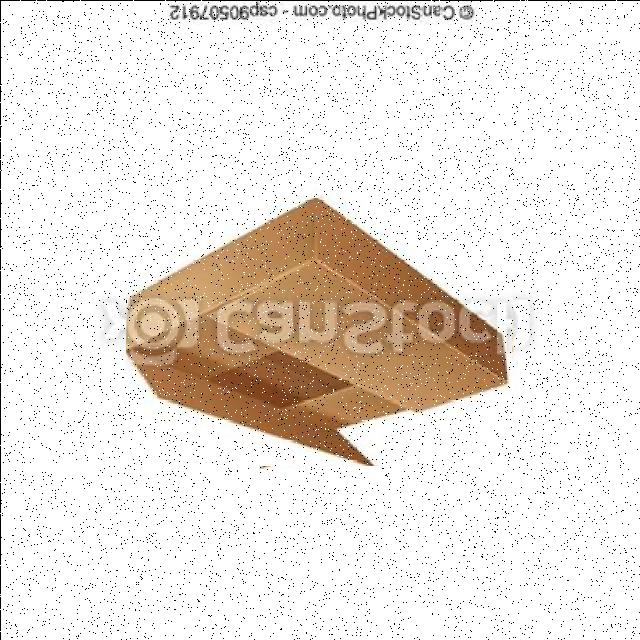defect: (124, 197, 510, 465)
